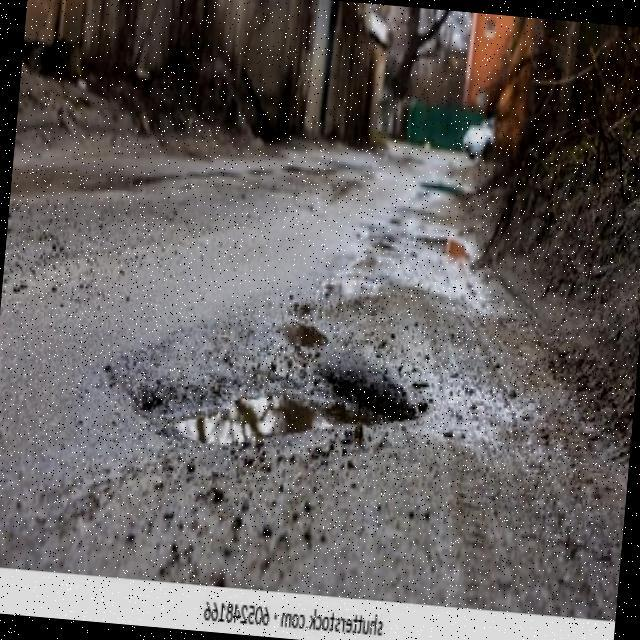Pothole: (141, 374, 417, 444), (277, 323, 327, 362)
